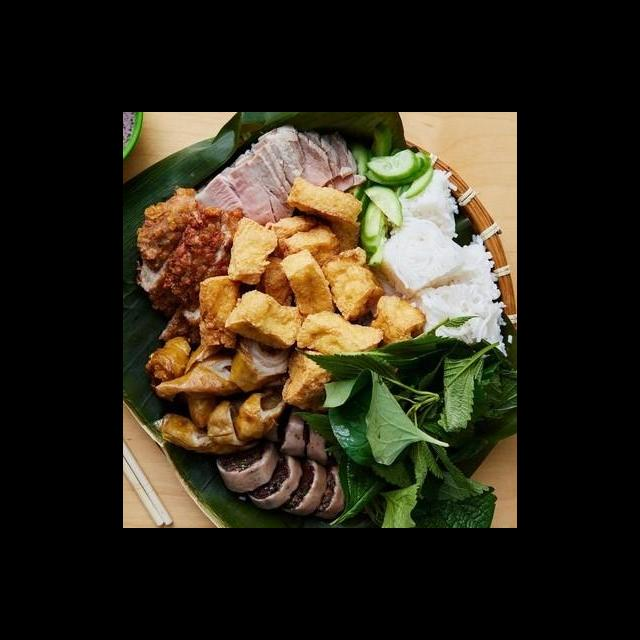bun: (369, 157, 517, 359)
bun dau: (132, 140, 517, 528)
cha com: (134, 186, 249, 315)
dau hu: (260, 215, 386, 325), (294, 299, 390, 362), (219, 287, 304, 353), (283, 175, 365, 234), (222, 213, 281, 290), (270, 348, 339, 400), (366, 293, 427, 345)
doi sun: (208, 434, 280, 498), (242, 449, 305, 513), (270, 406, 337, 461), (277, 454, 330, 516), (309, 462, 354, 520)
thit heo: (199, 123, 371, 227)
